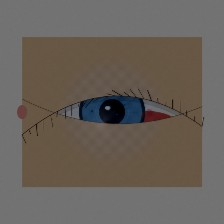hemorrhage_spot: (93, 85, 191, 163)
